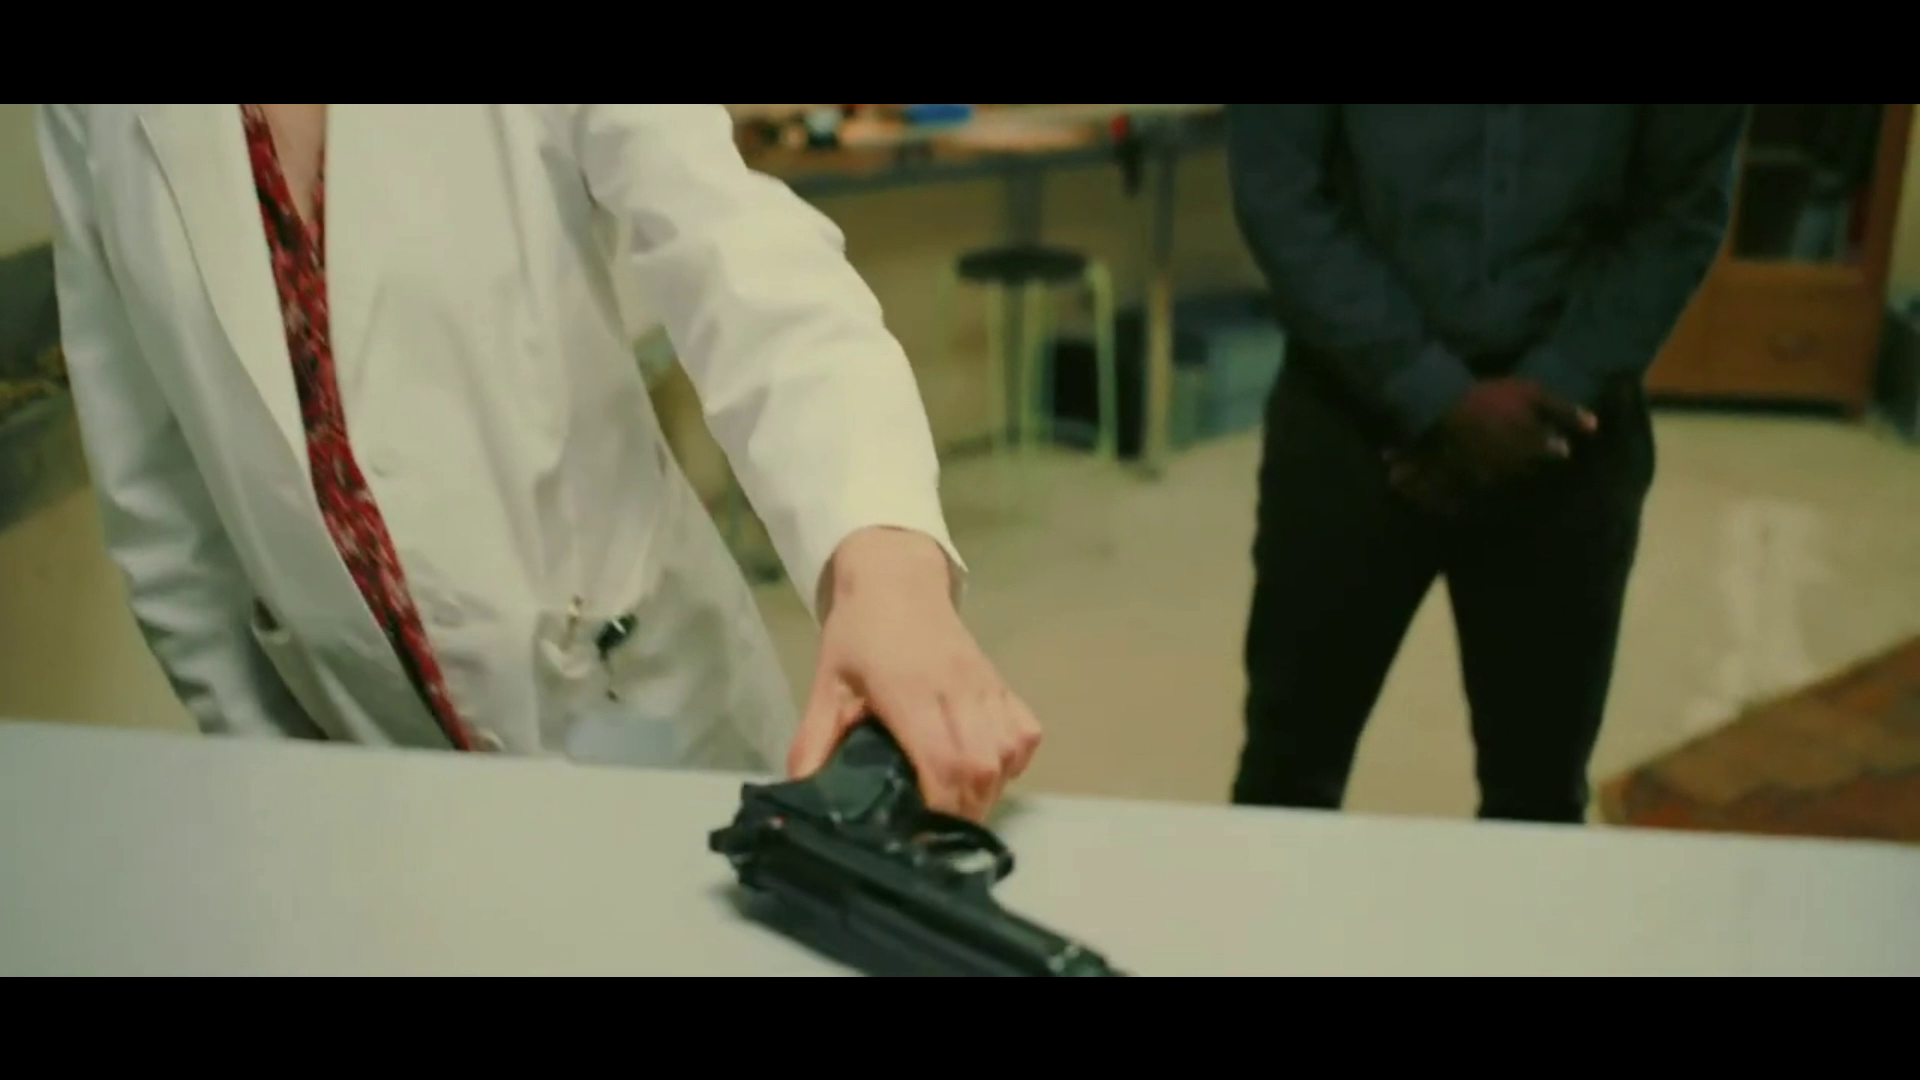SIG P226: (702, 724, 1135, 982)
